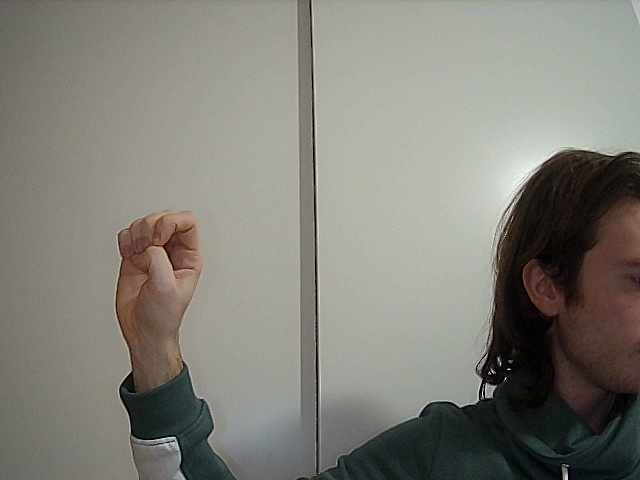e: (98, 200, 221, 344)
